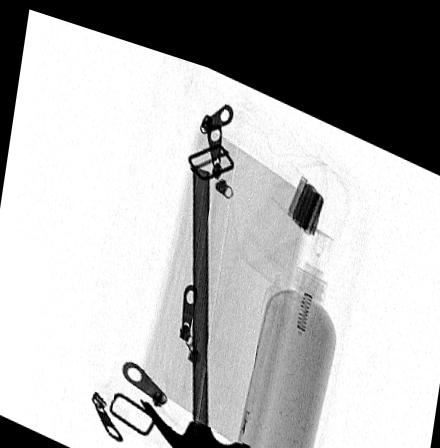Hammer: (138, 155, 255, 448)
